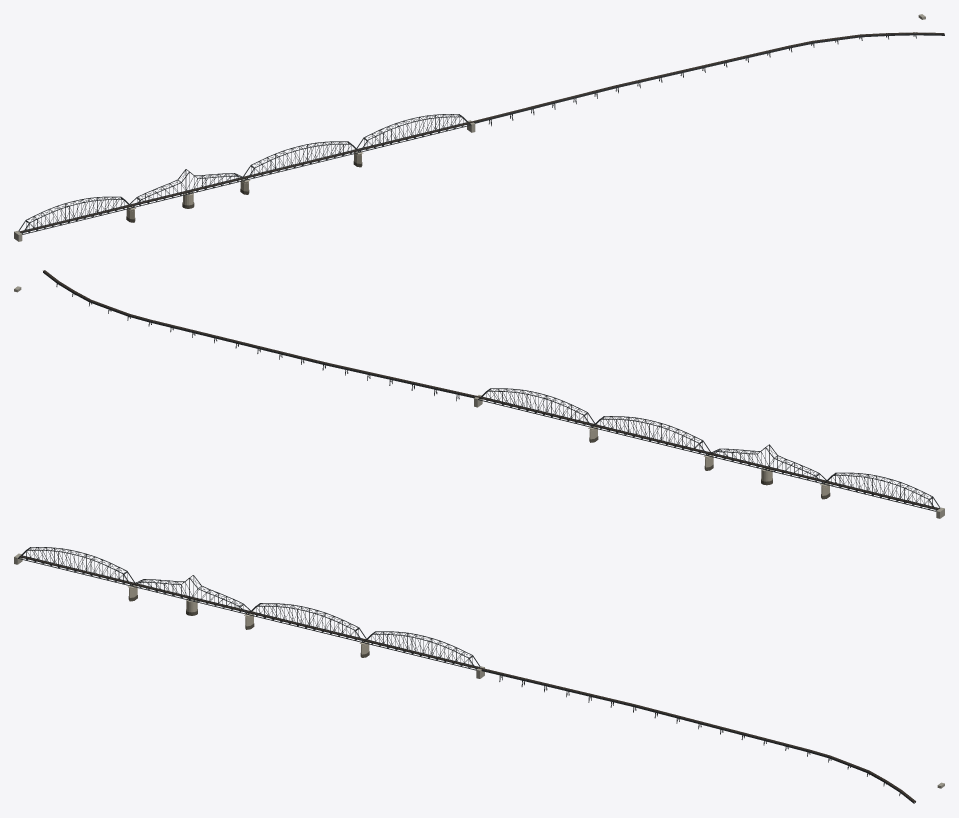
Rendered from rock-island-bridge-1913.glb.
3 renders of one model, top to bottom at view 1: azimuth 30°, elevation 25°; view 2: azimuth 150°, elevation 25°; view 3: azimuth 330°, elevation 25°, orthographic. The views are drawn at different scales.
Visible parts, largest first — view 1: rock_steel, rock_steel2, rock_tie, rock_rail; view 2: rock_steel2, rock_steel, rock_tie, rock_rail; view 3: rock_steel2, rock_steel, rock_tie, rock_rail.
Boxes of the visible parts, x1,y1,x2,y2 form: rock_steel: [18, 33, 944, 234]; rock_steel2: [21, 35, 915, 233]; rock_tie: [19, 32, 944, 232]; rock_rail: [20, 32, 944, 232]; rock_steel2: [72, 293, 937, 510]; rock_steel: [43, 271, 940, 511]; rock_tie: [43, 270, 938, 509]; rock_rail: [44, 270, 938, 509]; rock_steel2: [19, 547, 900, 793]; rock_steel: [18, 547, 915, 803]; rock_tie: [20, 556, 915, 801]; rock_rail: [21, 555, 914, 801].
Size of the model in its own units: 995 by 37.86 by 53.84.
